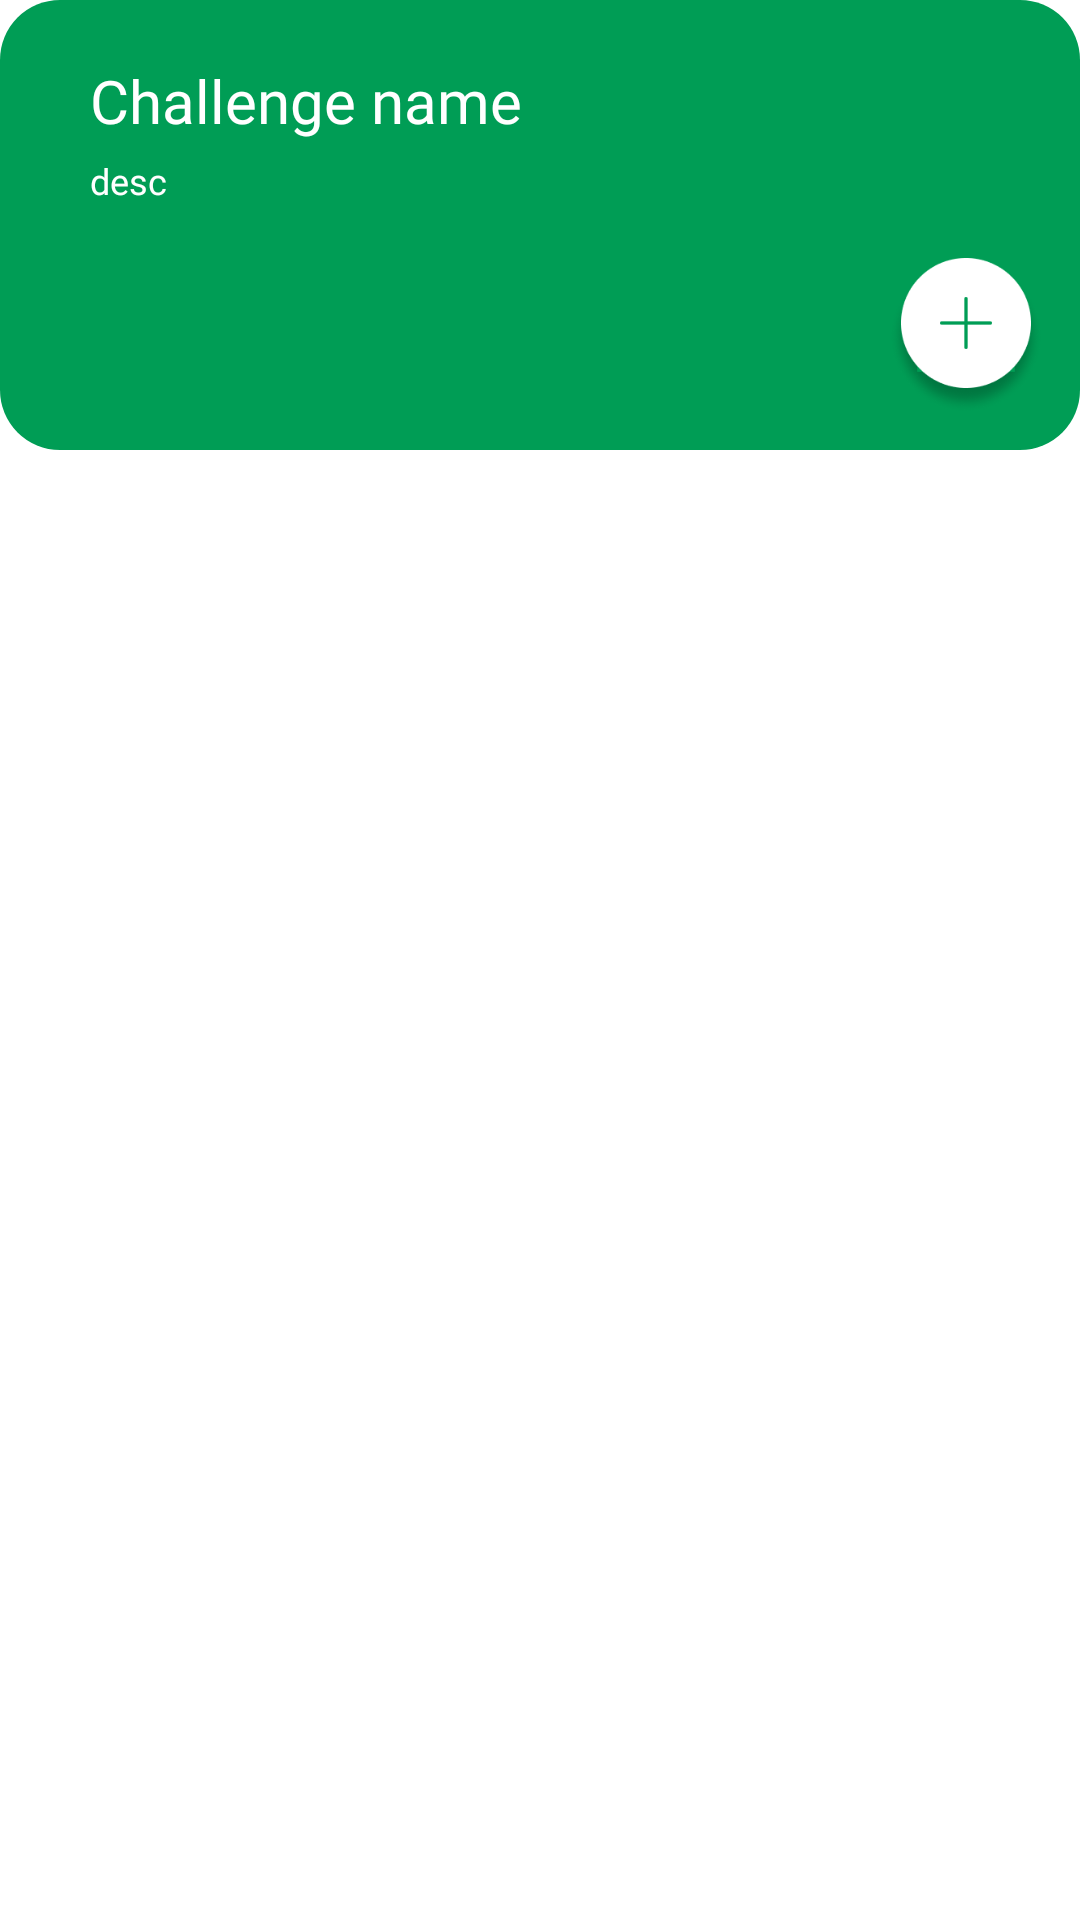

Icons on this 1080 x 1920 Android screen, each with its box as (x1, y1, x2, y2):
add circle: (901, 258, 1031, 399)
